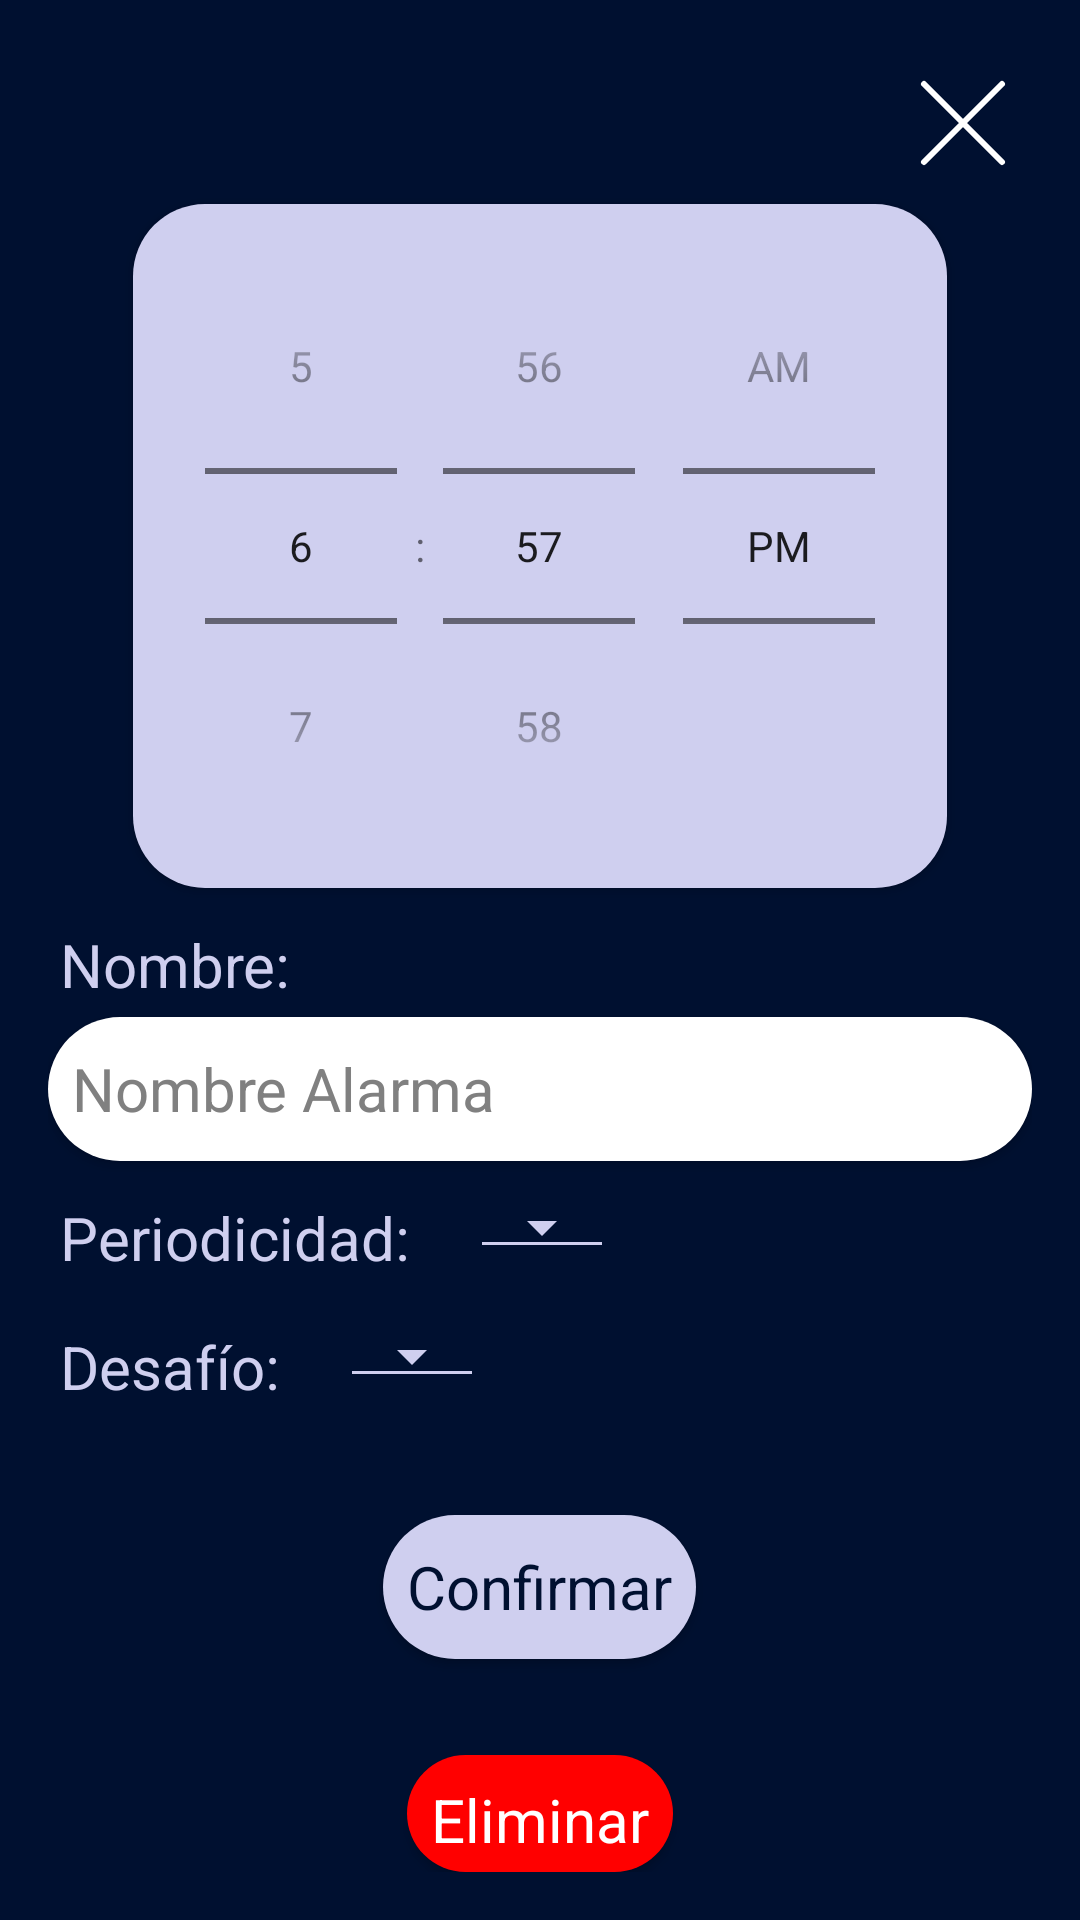

Named icons in this screenshot (1080 x 1920) and their bounding boxes, [x1=x1, y1=y1, x2=x2, y2=y2]:
Close: [x1=921, y1=80, x2=1005, y2=165]
